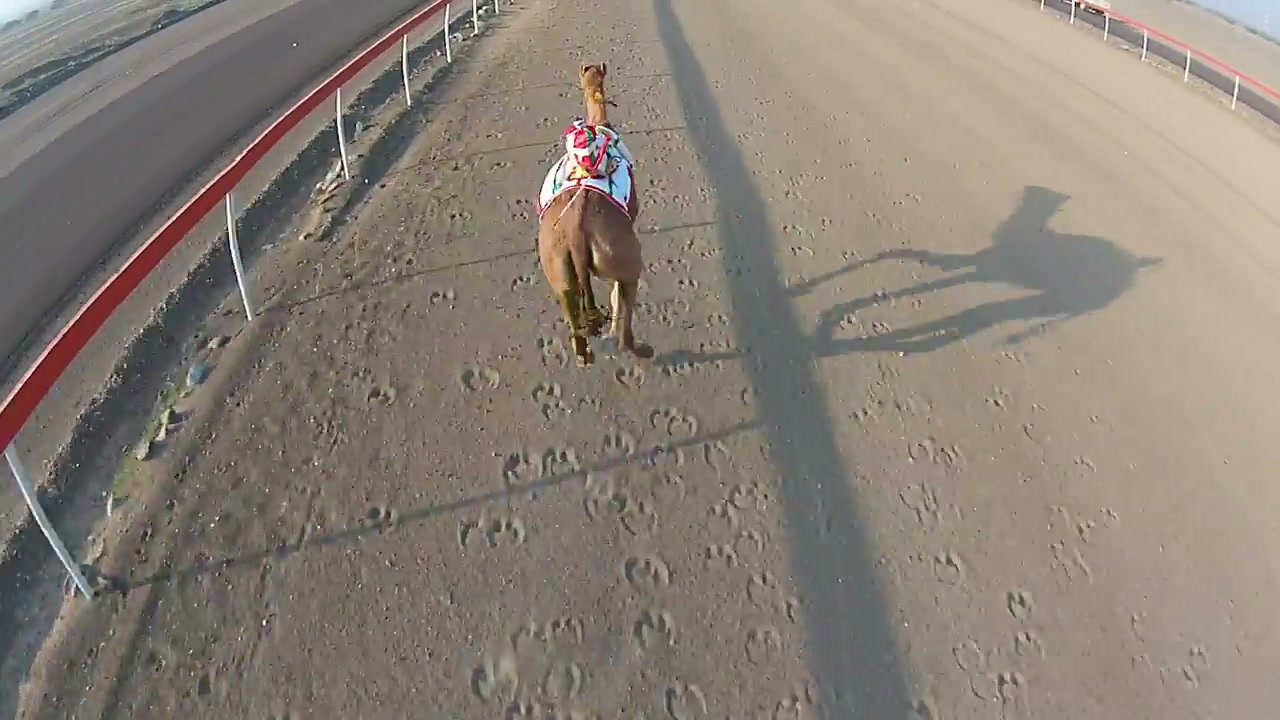animal_foot_print: (437, 351, 742, 713)
